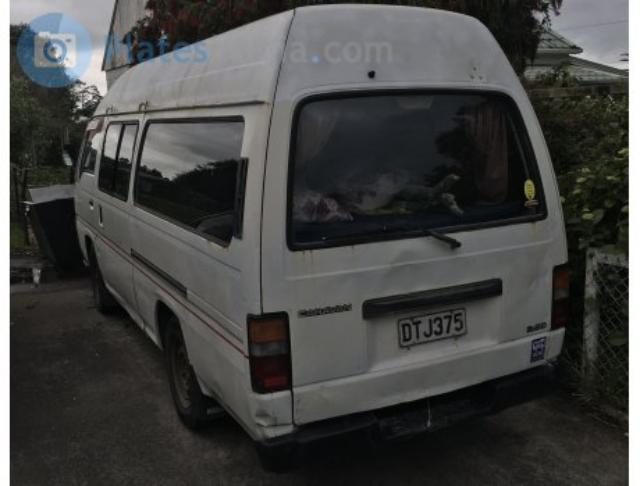Rego: (398, 308, 466, 349)
